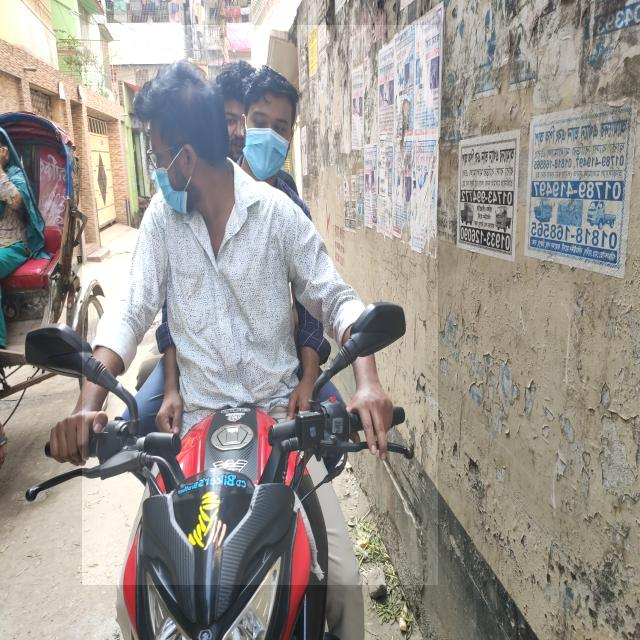Overloading: (82, 25, 438, 585)
